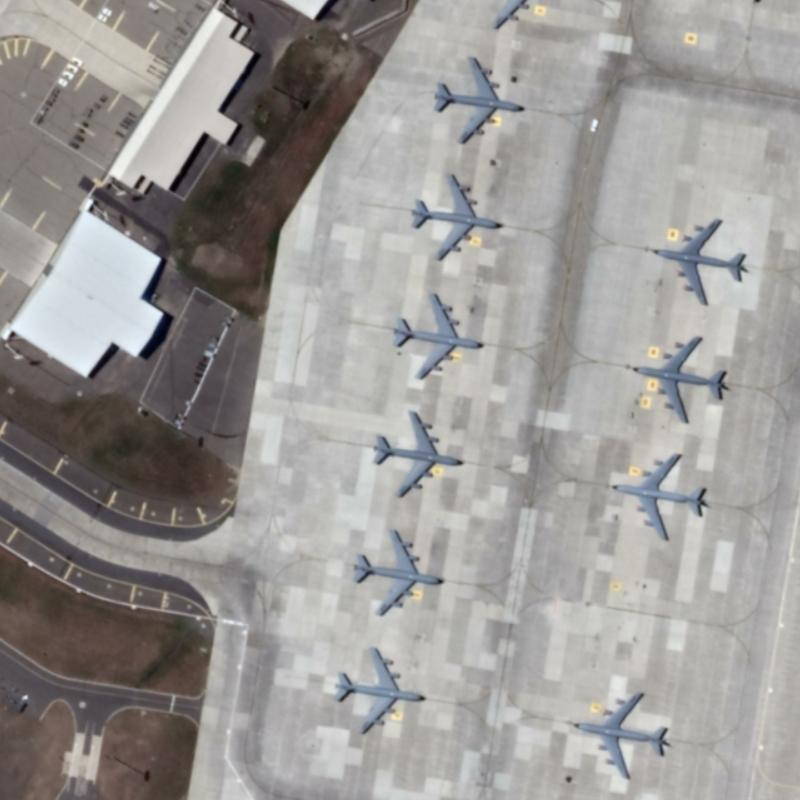A14: (598, 446, 725, 544), (626, 320, 736, 427), (646, 207, 754, 312), (427, 49, 531, 150), (385, 281, 488, 382), (573, 682, 676, 783), (344, 525, 457, 617), (368, 405, 472, 499), (409, 168, 508, 265), (329, 645, 431, 738)
